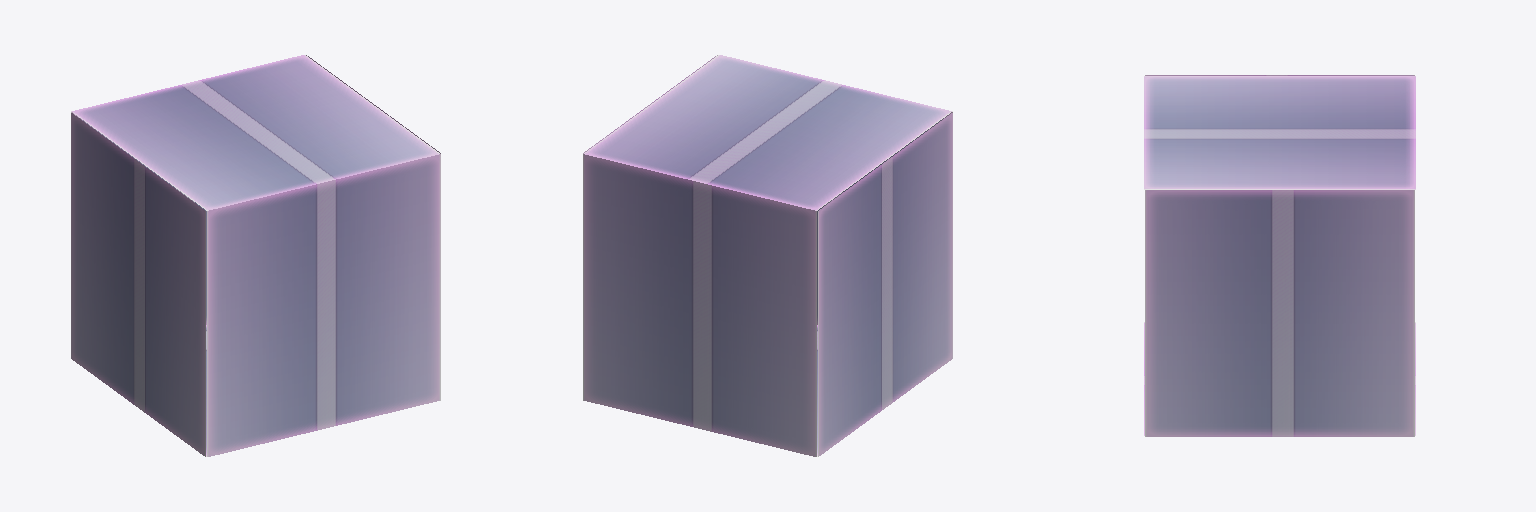
3 renders of one model, left to right at view 1: azimuth 30°, elevation 25°; view 2: azimuth 150°, elevation 25°; view 3: azimuth 270°, elevation 25°, orthographic.
Parts seen in each view (by area): view 1: cube; view 2: cube; view 3: cube.
Part boxes in pixels (bbox=[...]): cube: bbox=[71, 55, 440, 456]; cube: bbox=[583, 55, 952, 456]; cube: bbox=[1144, 75, 1415, 436].
Bounding box in the file's own units: 1 × 1 × 1.
Materials: 1 (1 with a texture image).